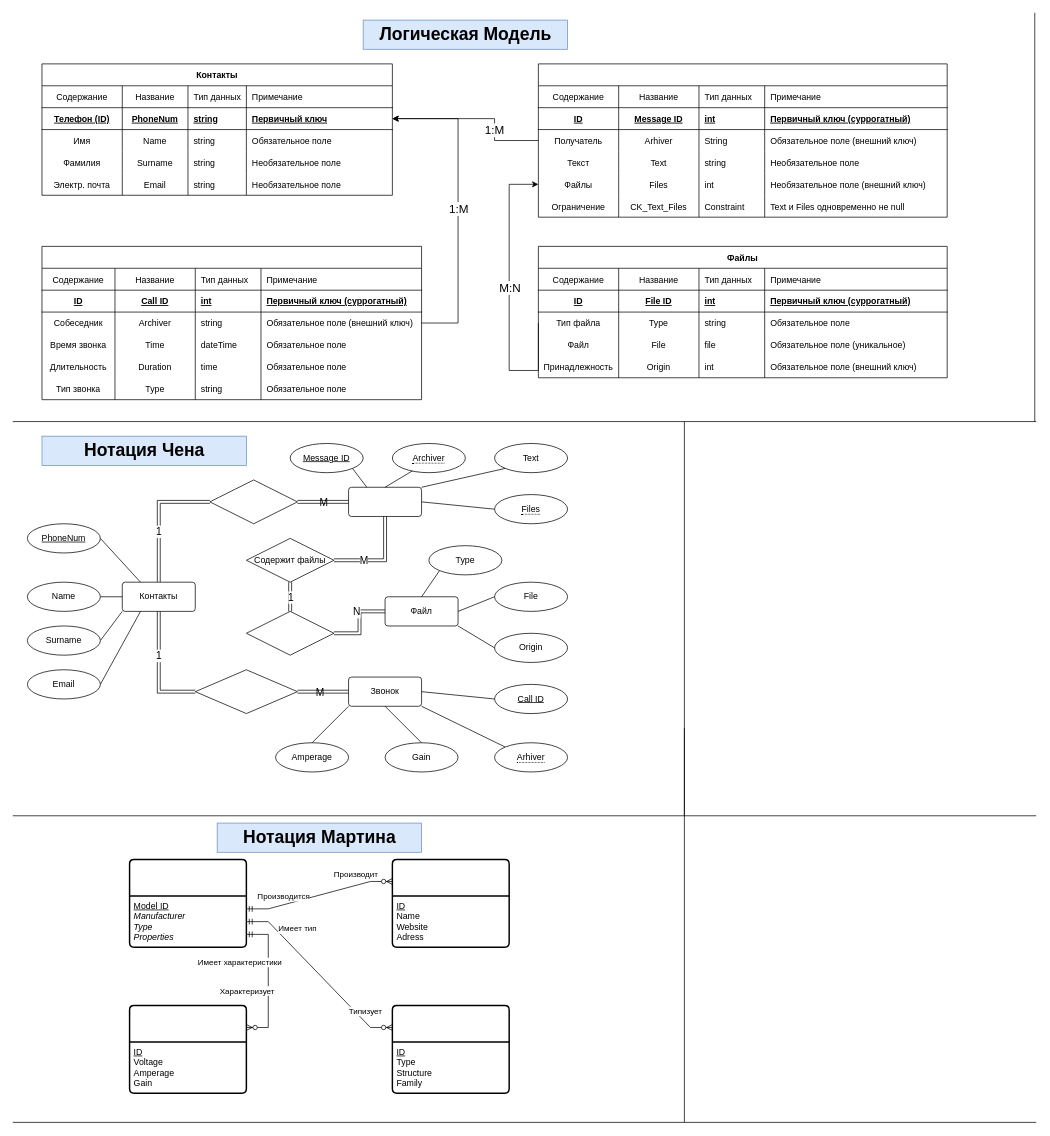
This 1050x1136 diagram has some shape labels left out. The box of each missing label's shape, as (x1, y1, x2, y2) in pixels:
Звонки: (41, 246, 422, 400)
Получает сообщения: (209, 479, 297, 524)
Прикреплён к сообщению: (246, 611, 334, 655)
Производитель: (391, 858, 510, 948)
Сообщение: (348, 487, 422, 516)
Сообщения: (538, 63, 947, 217)
Тип транзистора: (391, 1004, 510, 1094)
Транзисторы: (128, 858, 247, 948)
Участвует в созвоне: (195, 669, 297, 714)
Характеристики: (128, 1004, 247, 1094)
